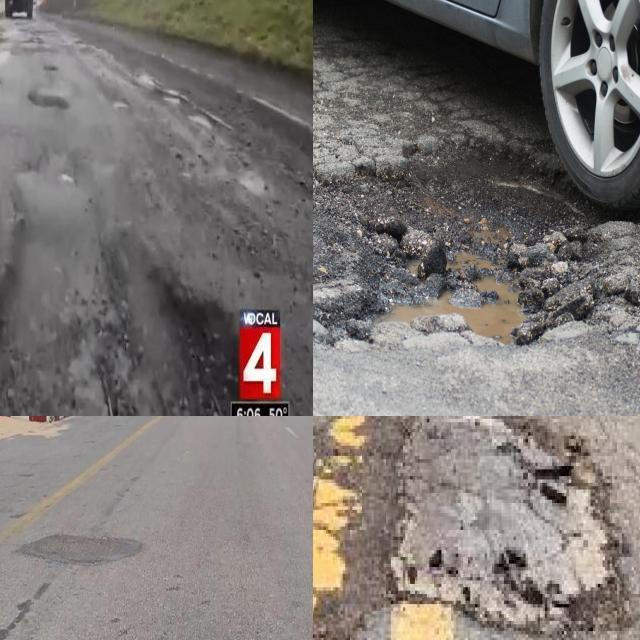Pothole: (362, 416, 617, 628), (325, 188, 627, 346), (393, 416, 608, 631), (98, 230, 232, 416), (313, 416, 420, 640), (361, 416, 425, 437), (27, 90, 68, 109), (238, 170, 268, 195), (534, 466, 573, 479), (22, 34, 47, 44), (60, 173, 74, 182), (113, 102, 130, 109), (181, 172, 191, 179), (0, 37, 10, 44), (43, 66, 58, 70), (0, 31, 6, 35)
